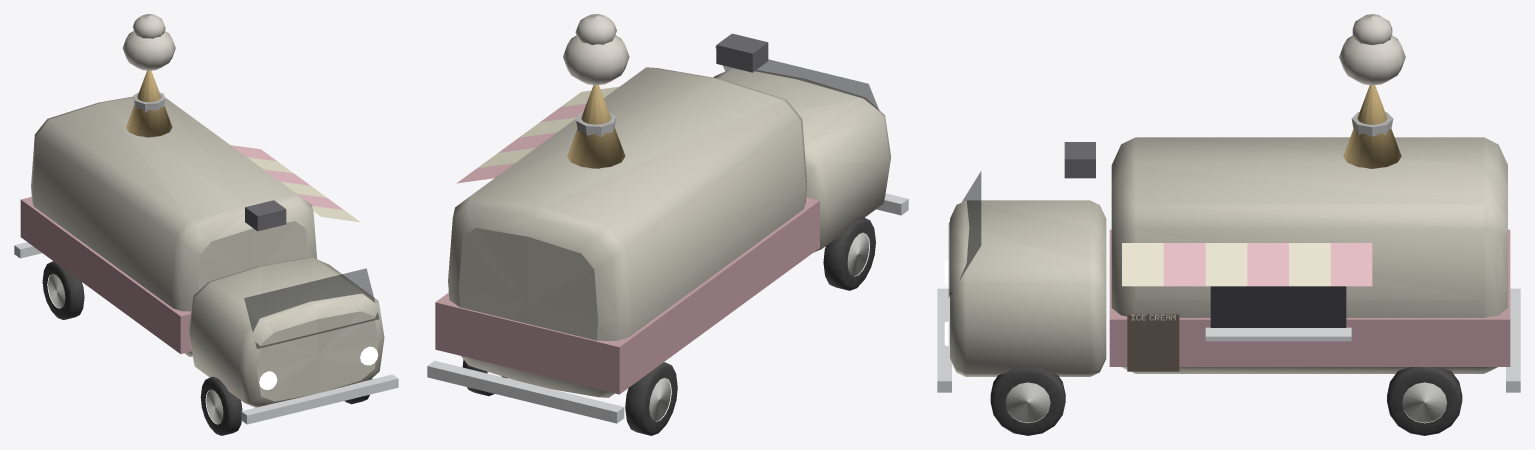
Rendered from festival_ice_cream_van_a.glb.
3 views of the same model, side by side, from view 1: azimuth 30°, elevation 25°; view 2: azimuth 150°, elevation 25°; view 3: azimuth 270°, elevation 25° (orthographic). The views are drawn at different scales.
Parts seen in each view (by area): view 1: body, wheel_rr, wheel_fr, headlamp_glass; view 2: body, wheel_fr, wheel_rr; view 3: body, wheel_rl, wheel_fl.
Part boxes in pixels (x1,y1,x2,y2): body: (14,14,398,424); wheel_rr: (42,261,84,319); wheel_fr: (200,376,242,435); headlamp_glass: (259,346,378,389); body: (427,14,908,423); wheel_fr: (823,216,875,290); wheel_rr: (625,362,677,435); body: (937,14,1520,392); wheel_rl: (1387,367,1462,435); wheel_fl: (990,366,1065,435).
Size of what is drawn, in the model's own units: 2.6 by 3.98 by 5.59.
